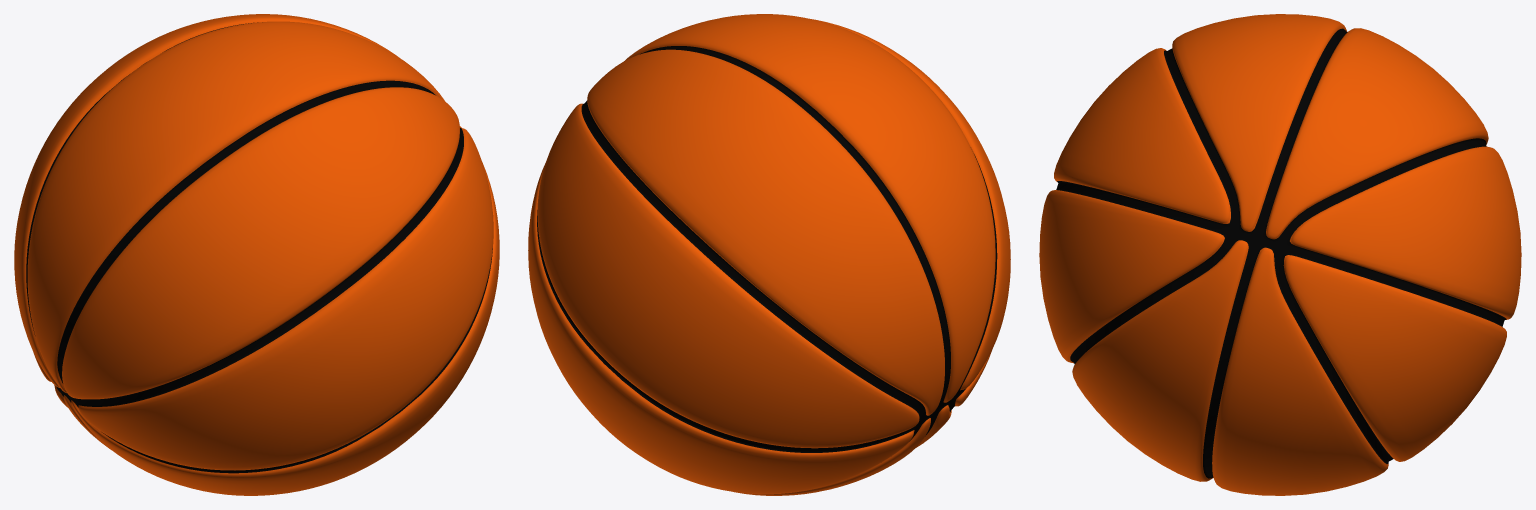
Rendered from asset.gltf.
The picture shows the model from 3 angles, left to right: view 1: azimuth 30°, elevation 25°; view 2: azimuth 150°, elevation 25°; view 3: azimuth 270°, elevation 25°; orthographic projection.
Parts seen in each view (by area): view 1: Sphere_0; view 2: Sphere_0; view 3: Sphere_0.
Boxes of the visible parts, box(x1,y1,x2,y2) form: Sphere_0: box(14, 14, 499, 495); Sphere_0: box(528, 14, 1010, 495); Sphere_0: box(1039, 14, 1521, 495).
Size of the model in its own units: 1.98 by 1.95 by 1.94.
